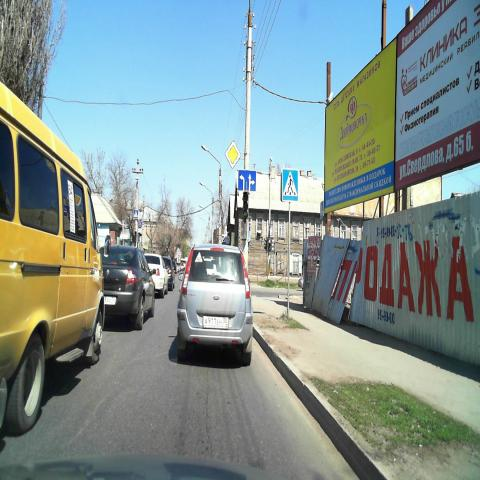5_15_2_2: (238, 169, 256, 192)
